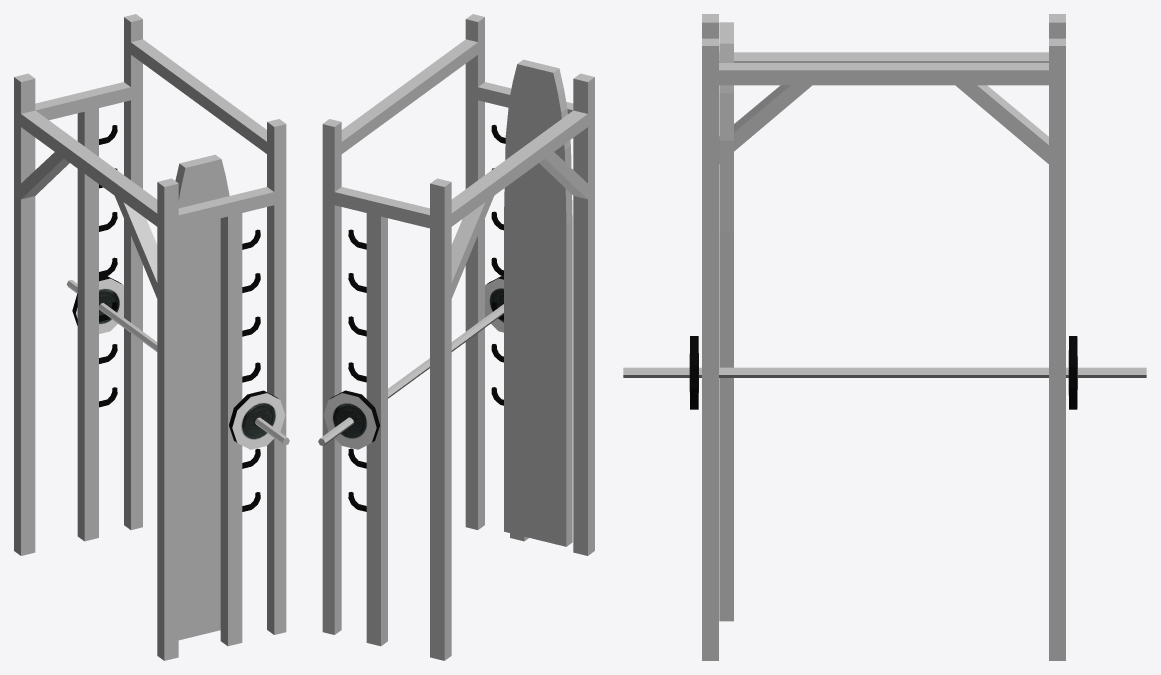
The model's file is fitnessapparaat.fbx.
3 renders of one model, left to right at view 1: azimuth 30°, elevation 25°; view 2: azimuth 150°, elevation 25°; view 3: azimuth 270°, elevation 25°, orthographic. The views are drawn at different scales.
Parts seen in each view (by area): view 1: kamer_A_fitness:polySurface2; view 2: kamer_A_fitness:polySurface2; view 3: kamer_A_fitness:polySurface2.
Boxes of the visible parts, <box> form: kamer_A_fitness:polySurface2: <box>14,14,289,660</box>; kamer_A_fitness:polySurface2: <box>318,14,594,660</box>; kamer_A_fitness:polySurface2: <box>623,14,1146,660</box>.
Size of the model in its own units: 6.01 by 23.91 by 18.43.
